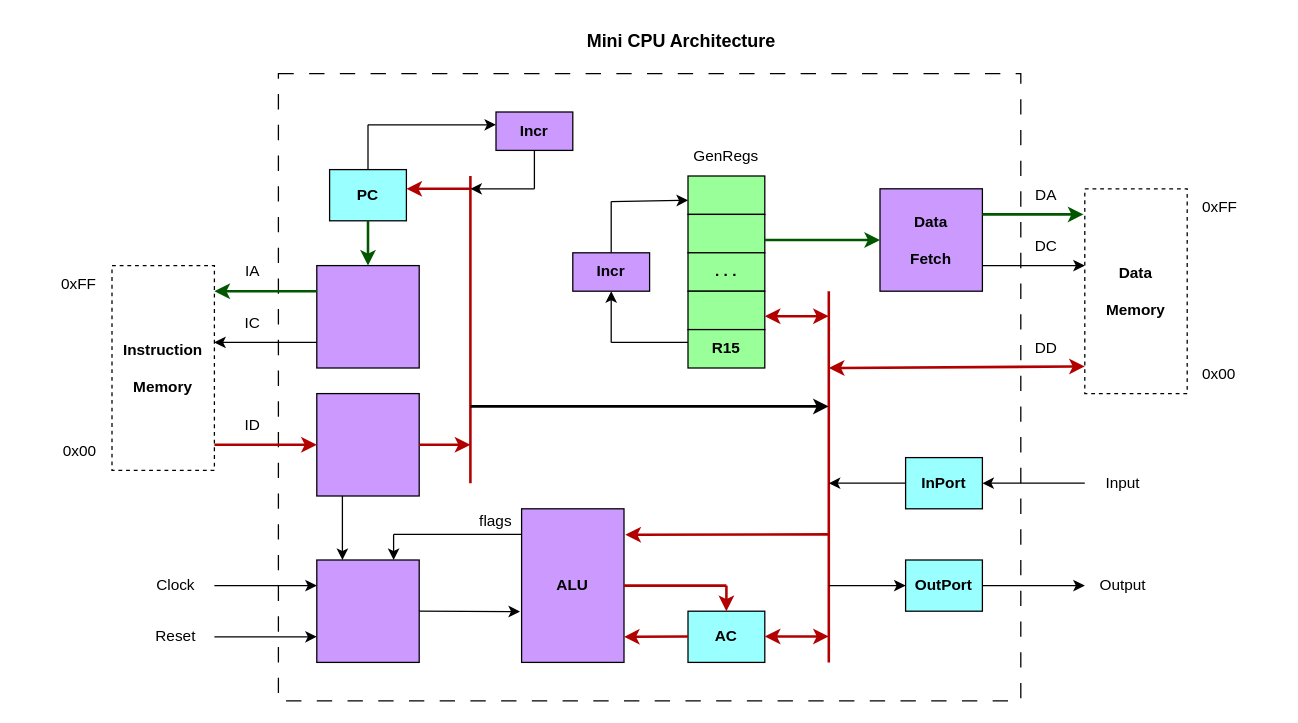
This 1298x723 diagram has some shape labels left out. Here are the shapes that lost their labels. From the top down, the box of each, then its label:
(687, 175, 765, 214): R0
(687, 213, 765, 253): R1
(316, 264, 419, 368): Inst Fetch
(687, 290, 765, 330): R14
(316, 392, 419, 496): Inst Decode
(316, 559, 419, 662): Control
